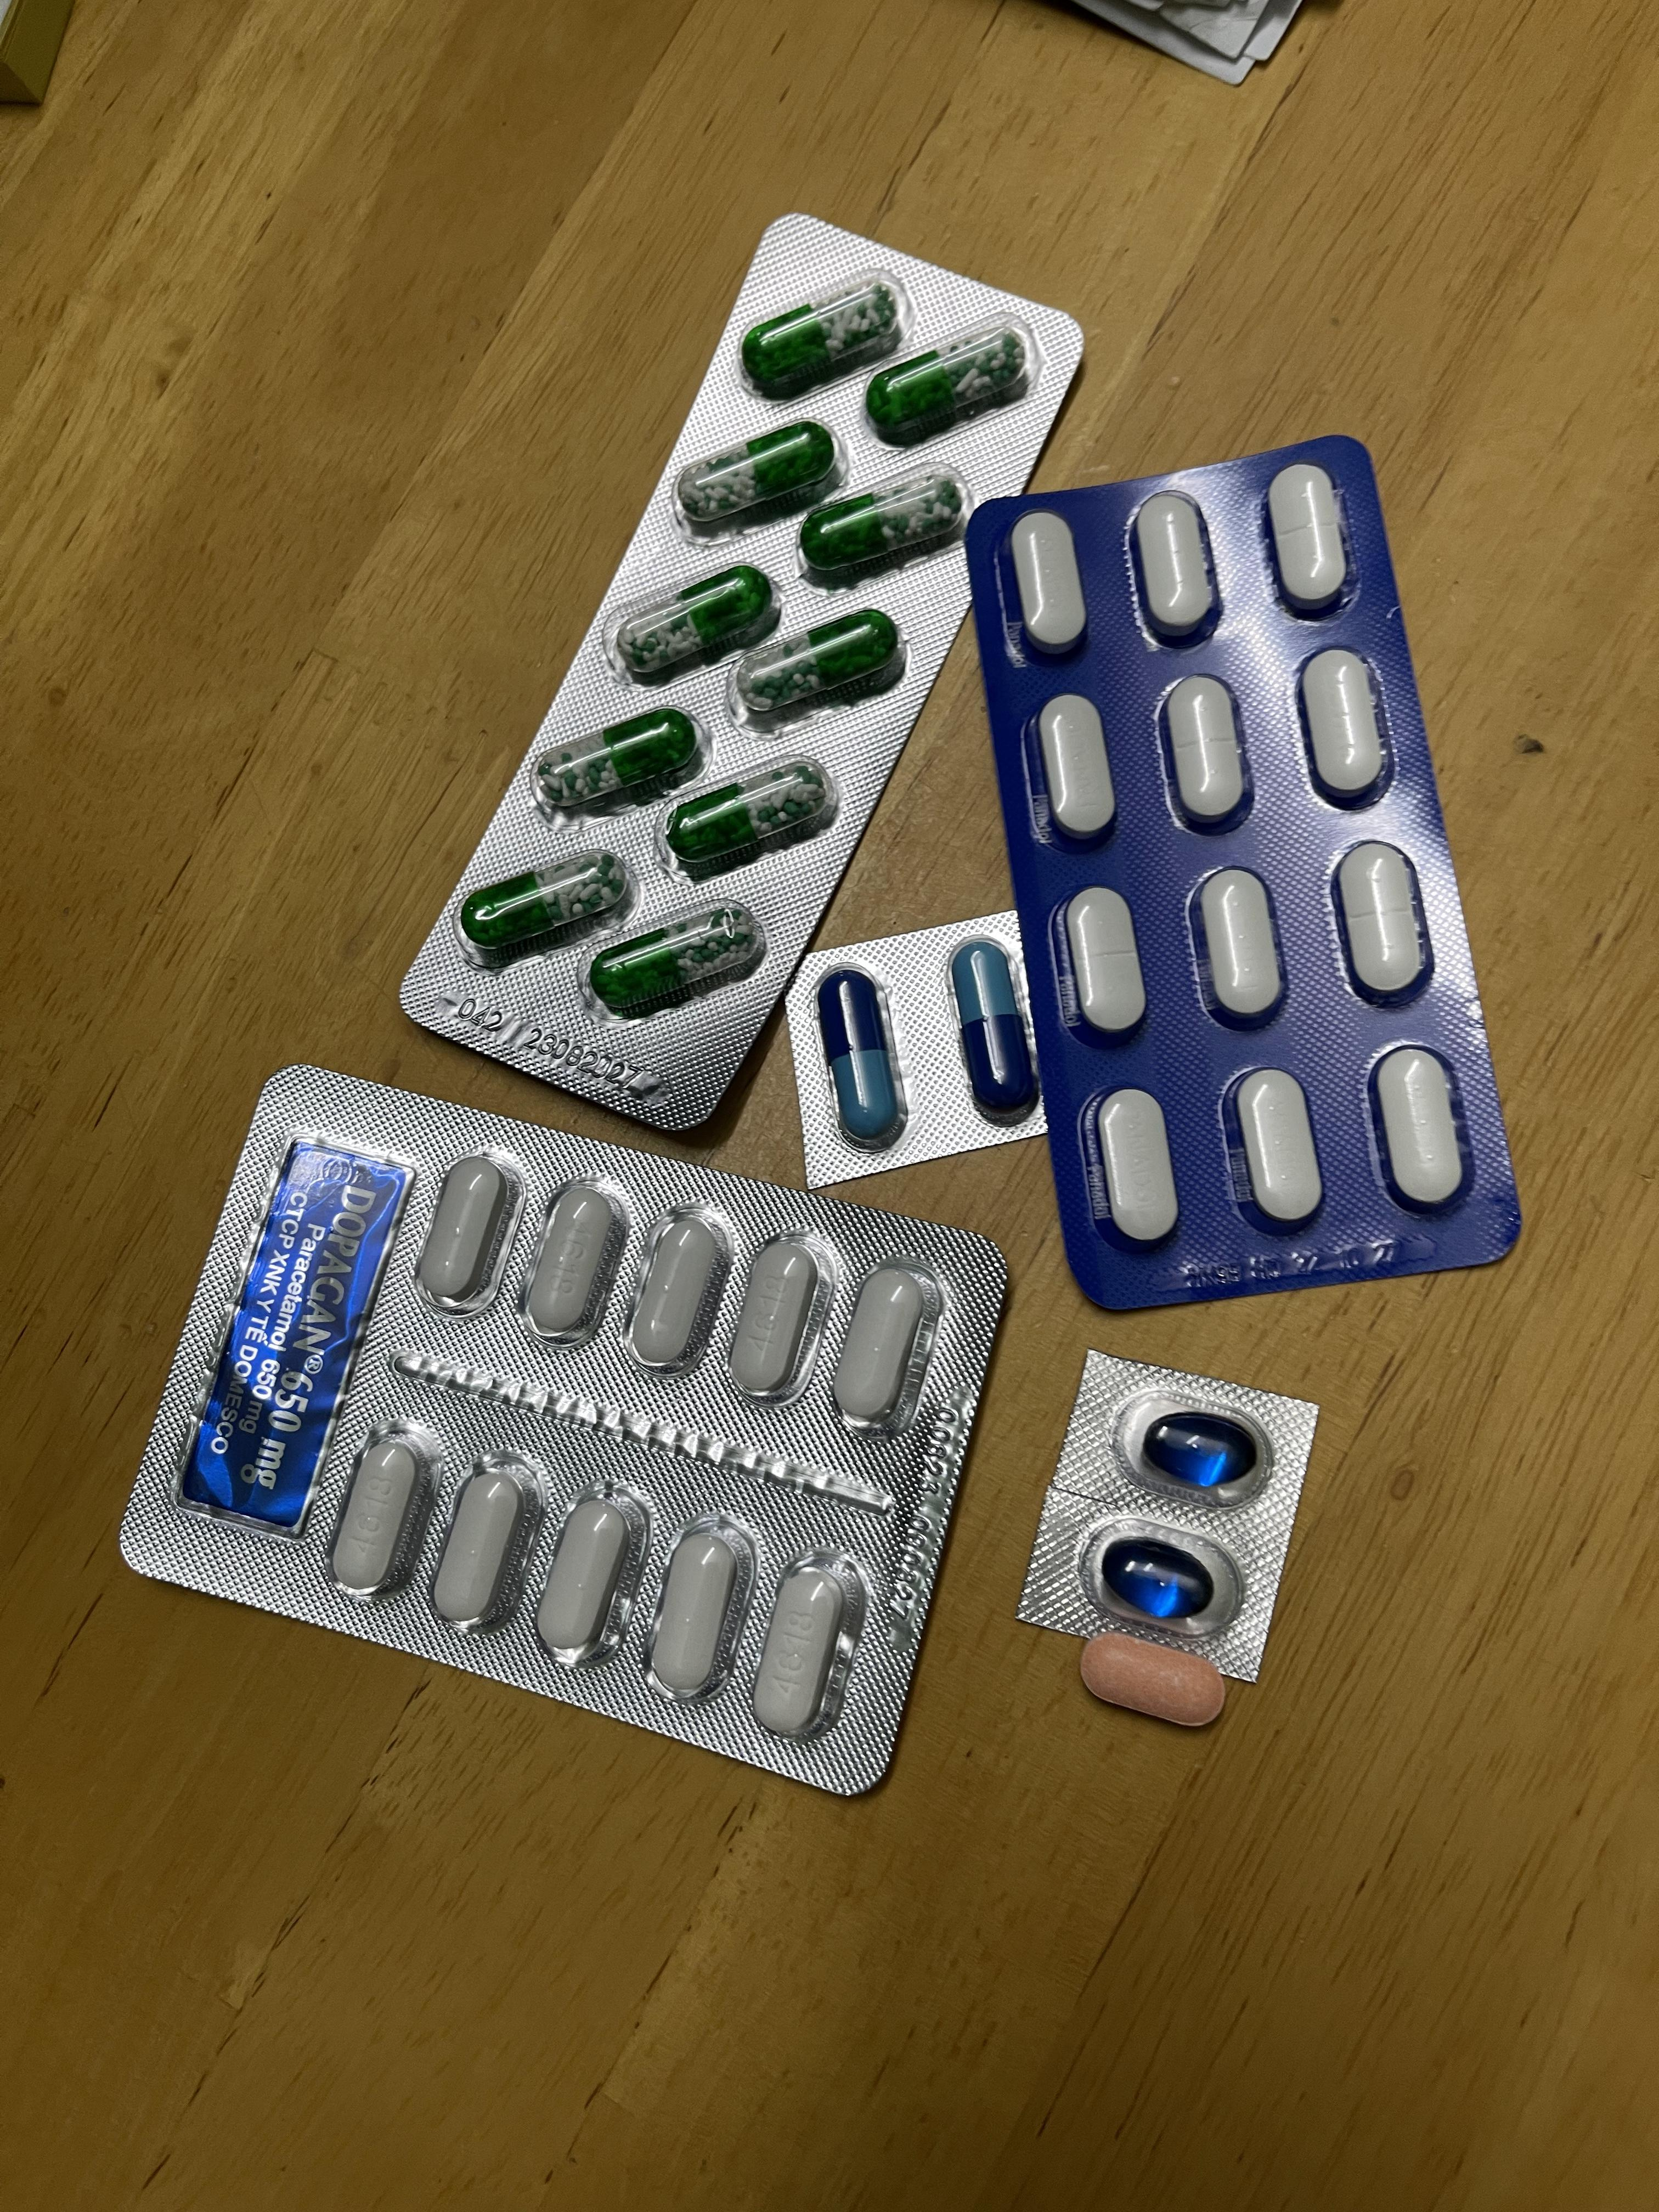Lincomyxin_500mg: (1100, 1538, 1211, 1620), (1140, 1411, 1253, 1486)
Loratadine_10mg: (1079, 1634, 1227, 1726)
Paracetamol_350mg: (1371, 1047, 1467, 1211), (1333, 840, 1429, 1001), (1230, 1068, 1324, 1226), (1298, 646, 1391, 806), (1091, 1085, 1180, 1245), (1194, 867, 1284, 1024), (1161, 676, 1249, 829), (1063, 885, 1147, 1040), (1131, 491, 1216, 641), (1267, 462, 1351, 613), (1035, 693, 1117, 843), (1007, 510, 1087, 658)
Paracetamol_500mg: (748, 1554, 864, 1740), (516, 1172, 629, 1343), (533, 1489, 643, 1665), (645, 1519, 751, 1698), (830, 1259, 941, 1430), (620, 1204, 732, 1372), (429, 1461, 533, 1632), (725, 1230, 830, 1399), (329, 1425, 430, 1597), (411, 1151, 516, 1306)
Paracetamol_650mg: (589, 902, 763, 1017), (664, 761, 835, 873), (453, 852, 624, 963), (730, 611, 897, 725), (866, 326, 1033, 437), (742, 279, 904, 392), (615, 568, 772, 679), (678, 425, 835, 529), (538, 711, 699, 812), (803, 472, 964, 568)
pill: (817, 970, 903, 1143), (951, 939, 1032, 1113)
